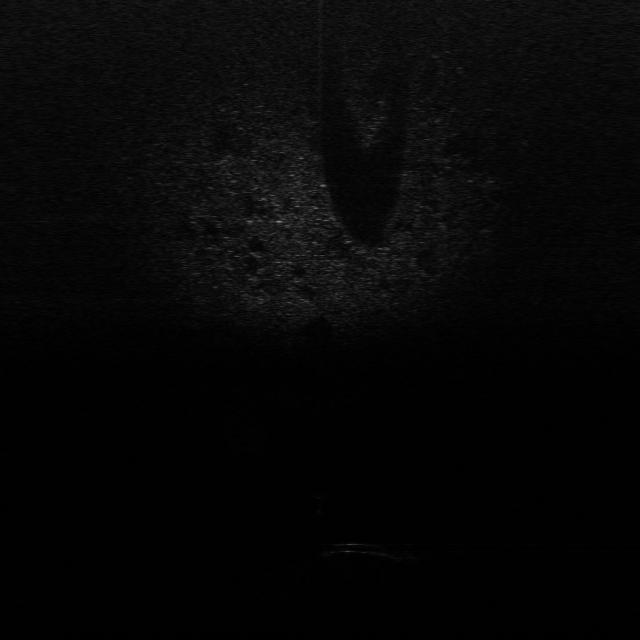ball: (304, 481, 334, 499)
tyre: (317, 538, 418, 577)
